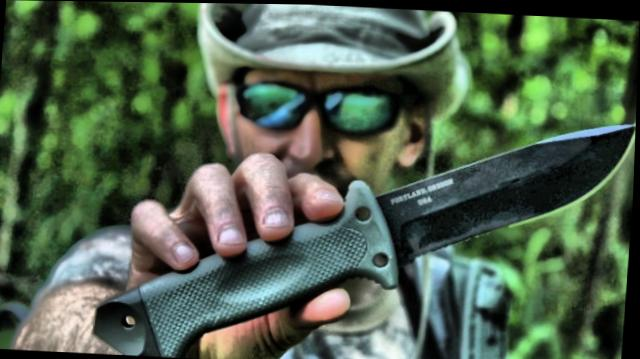knife: (85, 72, 638, 359)
